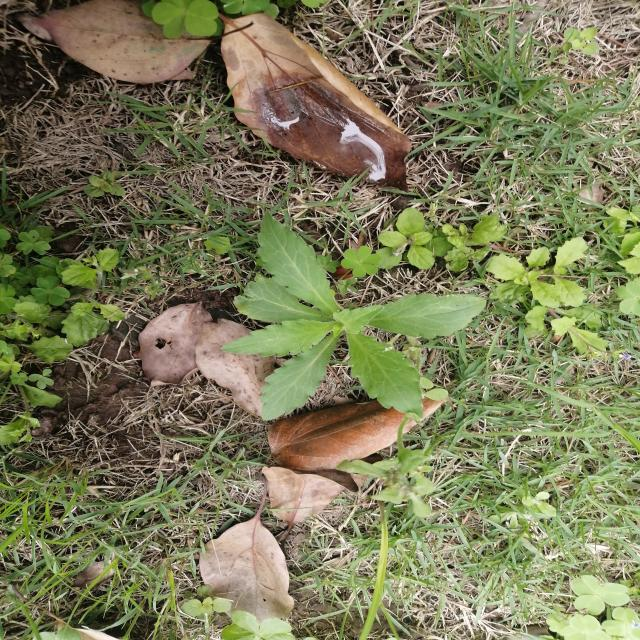horseweed: (210, 230, 497, 412)
